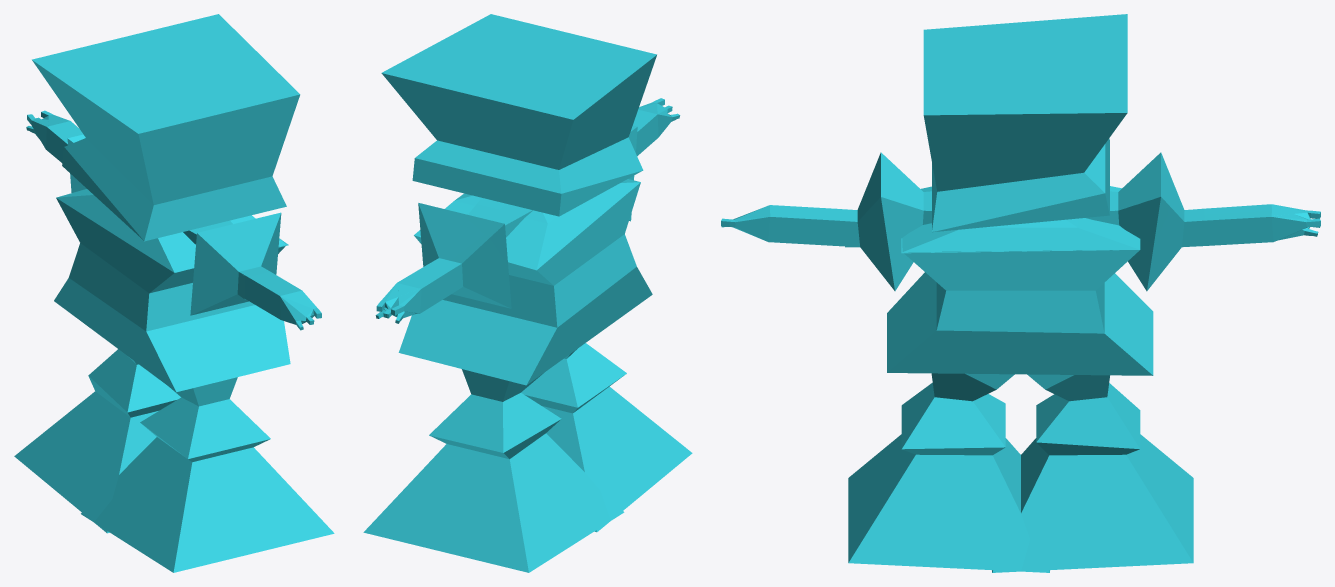
Rendered from character 1 model.glb.
The picture shows the model from 3 angles, left to right: view 1: azimuth 30°, elevation 25°; view 2: azimuth 150°, elevation 25°; view 3: azimuth 270°, elevation 25°; orthographic projection. The views are drawn at different scales.
Visible parts, largest first — view 1: Cube; view 2: Cube; view 3: Cube.
Boxes of the visible parts, bbox=[...] form: Cube: bbox=[14, 14, 334, 572]; Cube: bbox=[363, 14, 692, 572]; Cube: bbox=[721, 14, 1320, 572].
Bounding box in the file's own units: 51.47 × 113 × 132.
